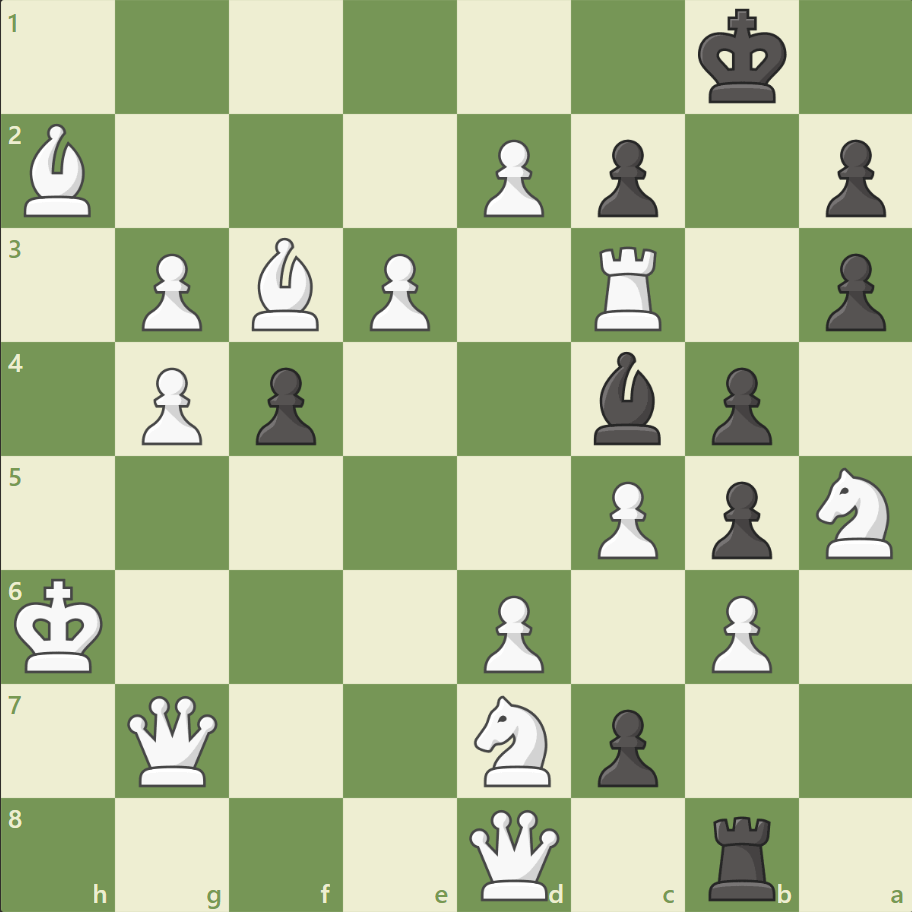B: (244, 233, 328, 336), (17, 120, 101, 222)
K: (11, 571, 111, 679)
N: (465, 688, 562, 791), (806, 461, 903, 564)
P: (701, 586, 776, 677), (474, 586, 549, 677), (133, 359, 208, 450), (133, 246, 208, 337), (474, 132, 549, 223), (588, 473, 662, 564), (361, 246, 435, 337)
Q: (464, 804, 563, 903), (124, 690, 223, 789)
R: (587, 239, 670, 336)
b: (585, 347, 669, 449)
k: (692, 4, 792, 112)
p: (701, 473, 776, 564), (701, 359, 776, 450), (247, 359, 322, 450), (588, 700, 662, 791), (815, 246, 889, 337), (815, 132, 889, 223), (588, 132, 662, 223)
r: (700, 806, 783, 904)
